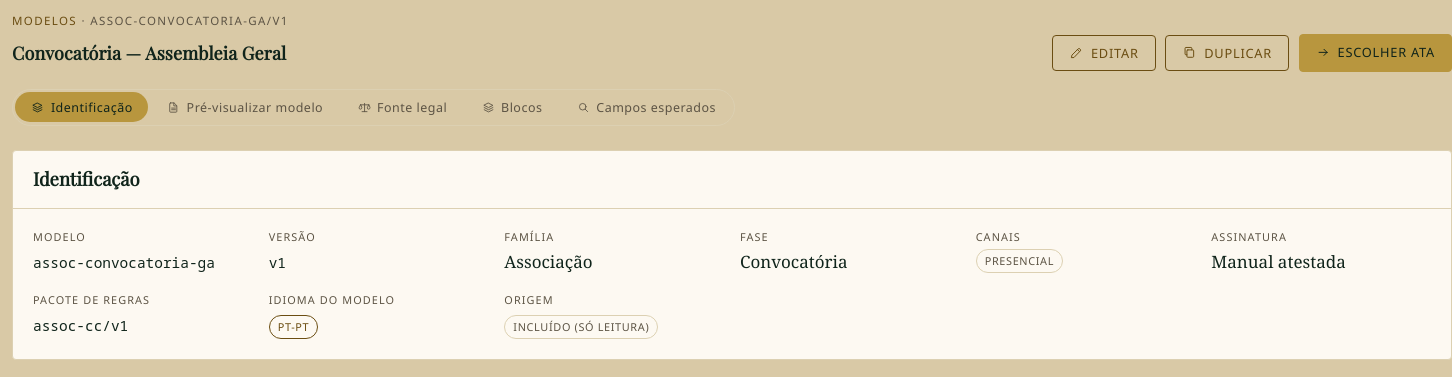
TemplateDetailPage › carries the legal source in full — the column the catalog hides by default
Expected: the heading "Convocatória — Assembleia Geral" is shown, [12,39,286,67]
Click the button "Fonte legal" at (402, 108), box [342,93,463,122]
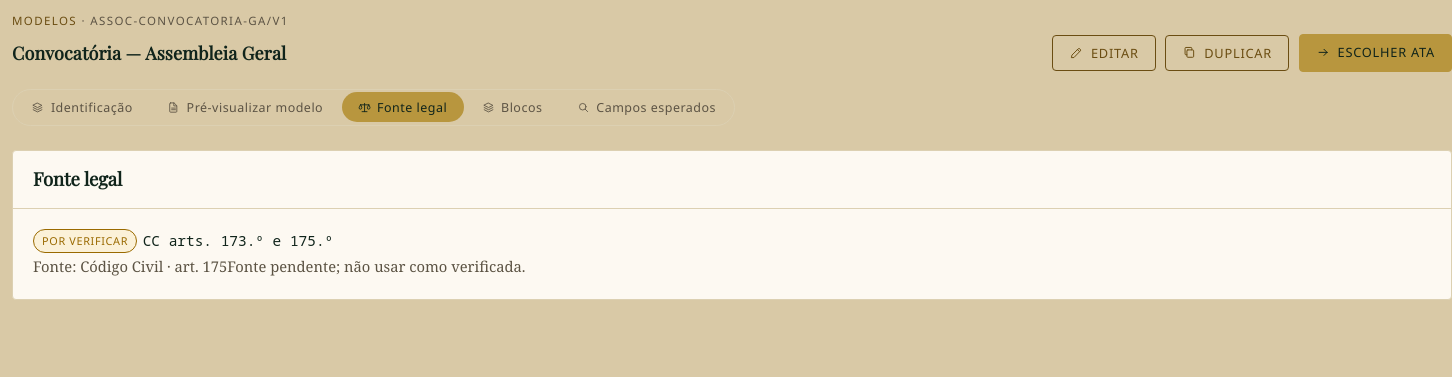
Expected: the text "CC arts. 173.º e 175.º" is shown, [143,230,333,252]
Expected: the text "Por verificar" is shown, [33,229,137,253]
Expected: the text "Fonte pendente; não usar como verificada." is shown, [227,256,526,276]
